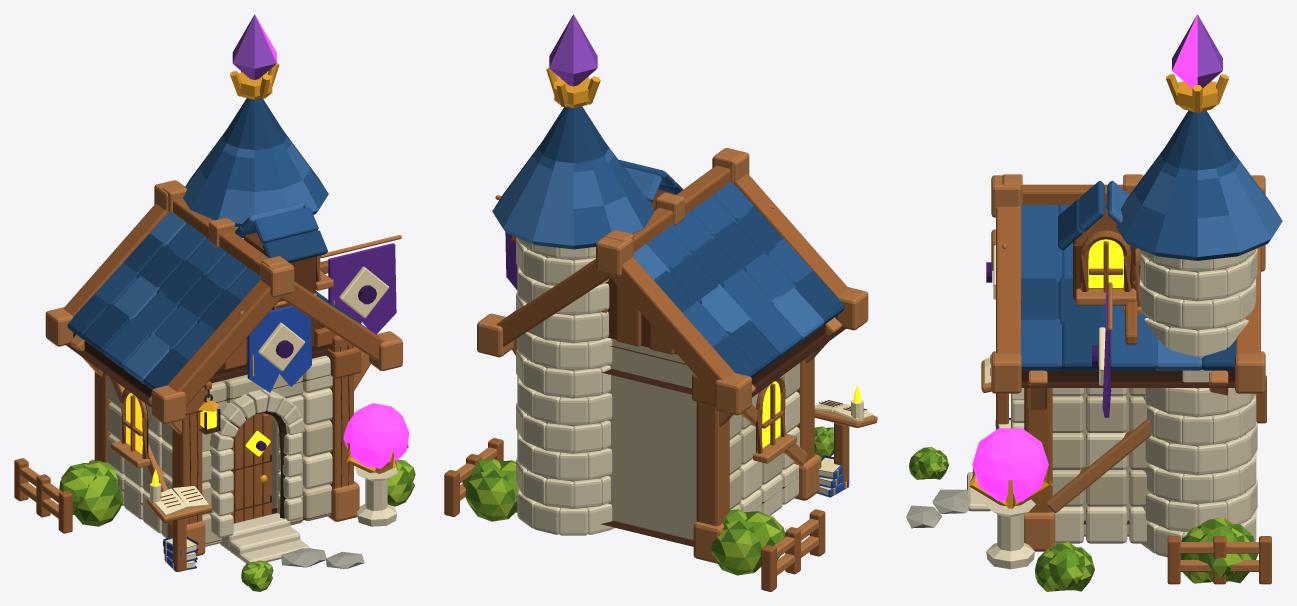
File: magic_academy.glb
3 views of the same model, side by side, from view 1: azimuth 30°, elevation 25°; view 2: azimuth 150°, elevation 25°; view 3: azimuth 270°, elevation 25° (orthographic). The views are drawn at different scales.
Visible parts, largest first — view 1: Broad stepped turret roof, Carved roof verge, Broad stepped turret roof.001, Cloth heraldic banner.001, Academy glowing orb, Cloth heraldic banner, Carved roof verge.002, Corner upright.002, Turret cone backing, Corner upright, Carved roof verge.001, Academy purple crystal (+66 smaller); view 2: Cottage walls, Broad stepped turret roof, Carved roof verge.001, Broad stepped turret roof.001, Corner upright.001, Carved roof verge.003, Turret cone backing, Carved roof verge, Academy purple crystal, Leaf cluster.007, Leaf cluster.011, Ridge timber (+73 smaller); view 3: Broad stepped turret roof, Broad stepped turret roof.001, Academy glowing orb, Carved roof verge.002, Turret cone backing, Roof eave.001, Academy purple crystal, Orb stone pedestal, Soft edged blue roof tile.036, Side wall diagonal.001, Soft edged blue roof tile.038, Soft edged blue roof tile.037 (+79 smaller).
Boxes of the visible parts, left/top/right/bottom form: Broad stepped turret roof: left=183, top=159, right=328, bottom=228; Carved roof verge: left=167, top=279, right=281, bottom=406; Broad stepped turret roof.001: left=199, top=137, right=310, bottom=191; Cloth heraldic banner.001: left=328, top=243, right=396, bottom=334; Academy glowing orb: left=343, top=403, right=409, bottom=468; Cloth heraldic banner: left=247, top=305, right=311, bottom=392; Carved roof verge.002: left=281, top=281, right=384, bottom=361; Corner upright.002: left=328, top=335, right=353, bottom=488; Turret cone backing: left=222, top=98, right=286, bottom=149; Corner upright: left=172, top=412, right=202, bottom=524; Carved roof verge.001: left=63, top=203, right=167, bottom=316; Academy purple crystal: left=232, top=14, right=276, bottom=79; Cottage walls: left=607, top=338, right=696, bottom=540; Broad stepped turret roof: left=492, top=172, right=654, bottom=249; Carved roof verge.001: left=609, top=257, right=734, bottom=396; Broad stepped turret roof.001: left=512, top=149, right=634, bottom=208; Corner upright.001: left=696, top=401, right=729, bottom=525; Carved roof verge.003: left=496, top=259, right=609, bottom=346; Turret cone backing: left=538, top=106, right=608, bottom=163; Carved roof verge: left=734, top=173, right=848, bottom=297; Academy purple crystal: left=549, top=14, right=597, bottom=86; Leaf cluster.007: left=710, top=520, right=761, bottom=575; Leaf cluster.011: left=465, top=469, right=517, bottom=521; Ridge timber: left=601, top=165, right=730, bottom=266; Broad stepped turret roof: left=1116, top=180, right=1282, bottom=260; Broad stepped turret roof.001: left=1133, top=156, right=1261, bottom=218; Academy glowing orb: left=972, top=428, right=1048, bottom=501; Carved roof verge.002: left=996, top=206, right=1021, bottom=354; Turret cone backing: left=1160, top=110, right=1234, bottom=170; Roof eave.001: left=1021, top=369, right=1234, bottom=387; Academy purple crystal: left=1172, top=14, right=1222, bottom=88; Orb stone pedestal: left=985, top=499, right=1035, bottom=569; Soft edged blue roof tile.036: left=1020, top=318, right=1061, bottom=370; Side wall diagonal.001: left=1046, top=419, right=1151, bottom=512; Soft edged blue roof tile.038: left=1110, top=319, right=1155, bottom=370; Soft edged blue roof tile.037: left=1062, top=318, right=1105, bottom=370.
Size of the model in its own units: 4.18 by 5.83 by 3.71.
